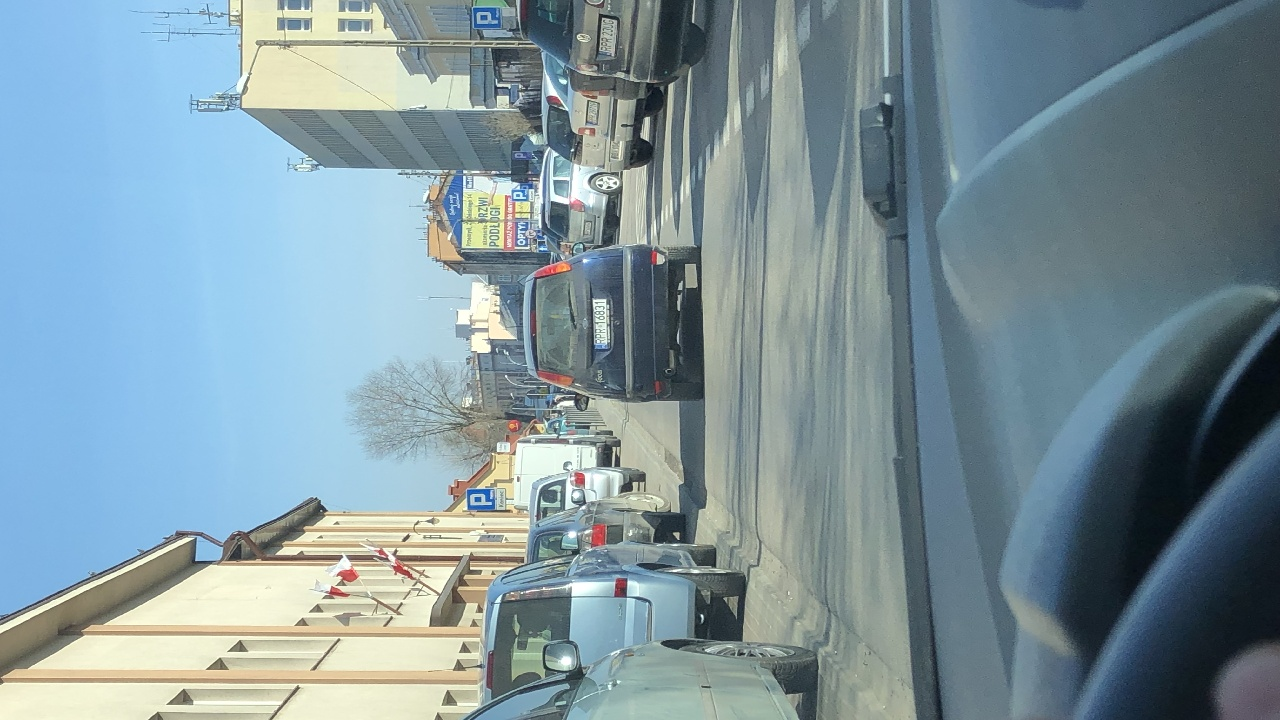D18: (465, 484, 497, 514)
